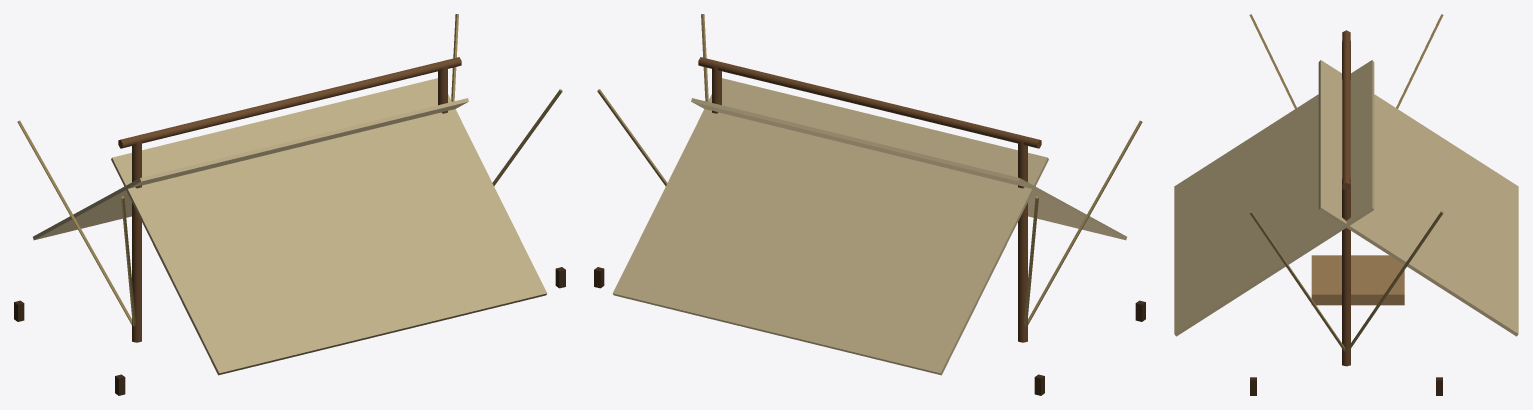
File: mv_tarp_tent.glb
3 renders of one model, left to right at view 1: azimuth 30°, elevation 25°; view 2: azimuth 150°, elevation 25°; view 3: azimuth 270°, elevation 25°, orthographic. The views are drawn at different scales.
Visible parts, largest first — view 1: mv_tarp_tent; view 2: mv_tarp_tent; view 3: mv_tarp_tent.
Boxes of the visible parts, left/top/right/bottom form: mv_tarp_tent: left=14, top=14, right=565, bottom=395; mv_tarp_tent: left=594, top=14, right=1145, bottom=395; mv_tarp_tent: left=1174, top=14, right=1518, bottom=395.
Size of the model in its own units: 4.23 by 1.85 by 3.06.
